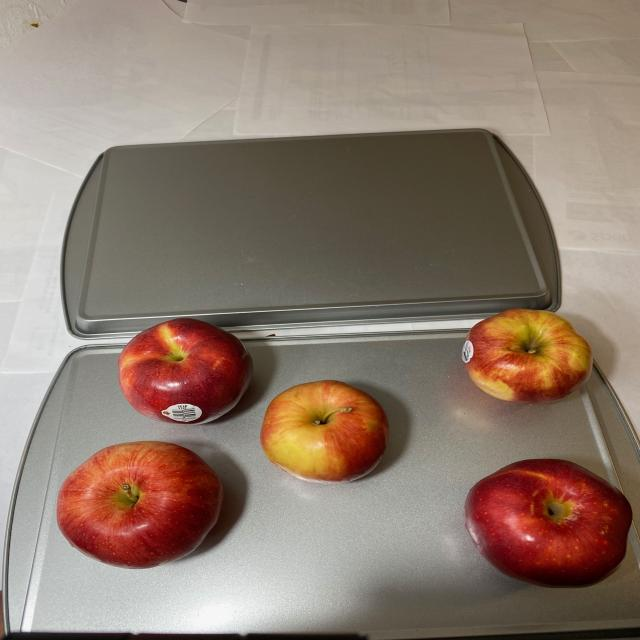Apple: (57, 316, 395, 580), (460, 454, 638, 594), (453, 308, 595, 405)
